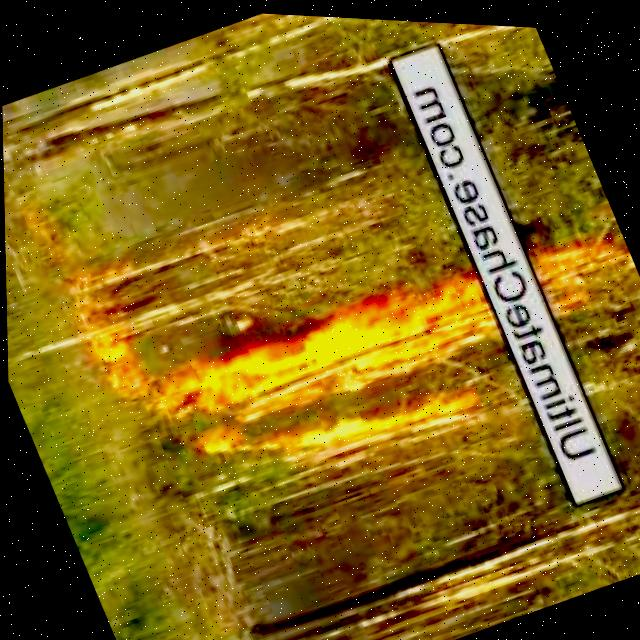Fire: (157, 265, 486, 523), (529, 216, 640, 319), (72, 305, 160, 426), (432, 271, 498, 339)
